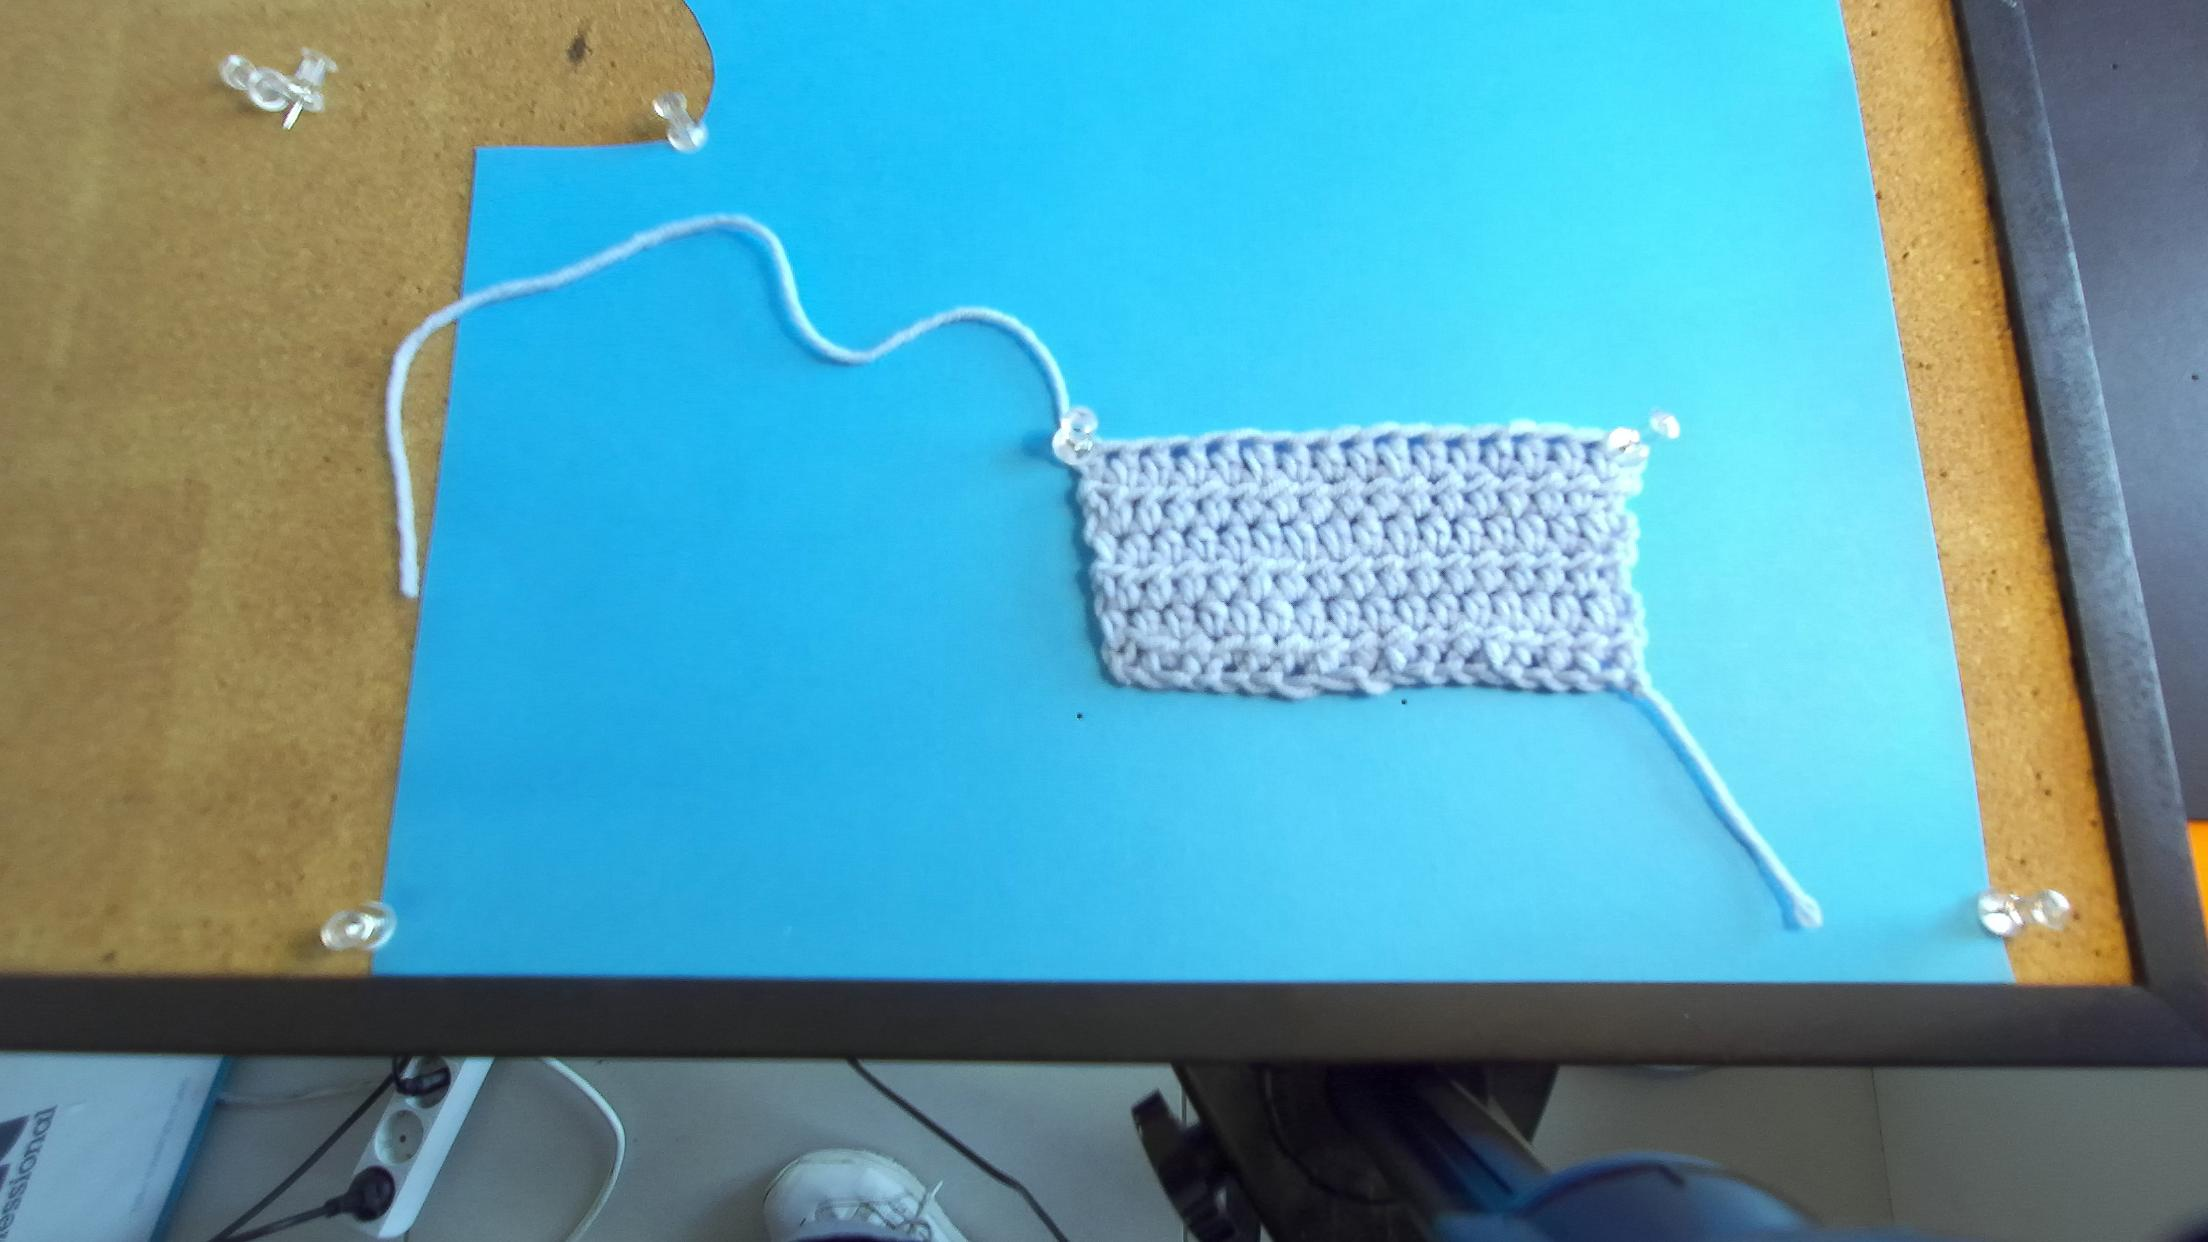hole: (1440, 435, 1462, 451), (1335, 436, 1355, 453), (1236, 438, 1255, 455), (1170, 443, 1190, 459), (1406, 433, 1425, 449), (1372, 433, 1389, 450), (1273, 440, 1291, 456), (1543, 435, 1565, 448), (1205, 441, 1221, 458), (1479, 434, 1496, 448), (1510, 434, 1527, 448), (1104, 450, 1120, 463), (1305, 441, 1322, 453), (1140, 446, 1153, 461), (1581, 440, 1600, 450)
swatch: (1051, 424, 1663, 704)
